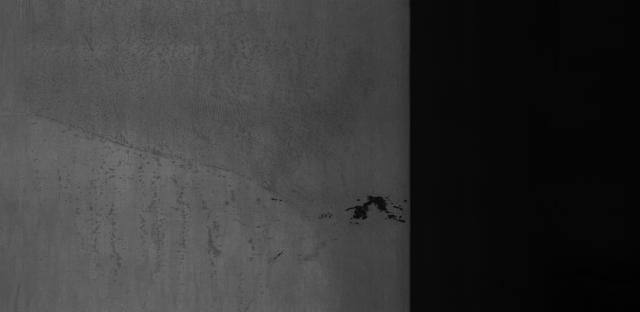inclusion: (337, 181, 408, 234)
silk_spot: (42, 35, 316, 289)
